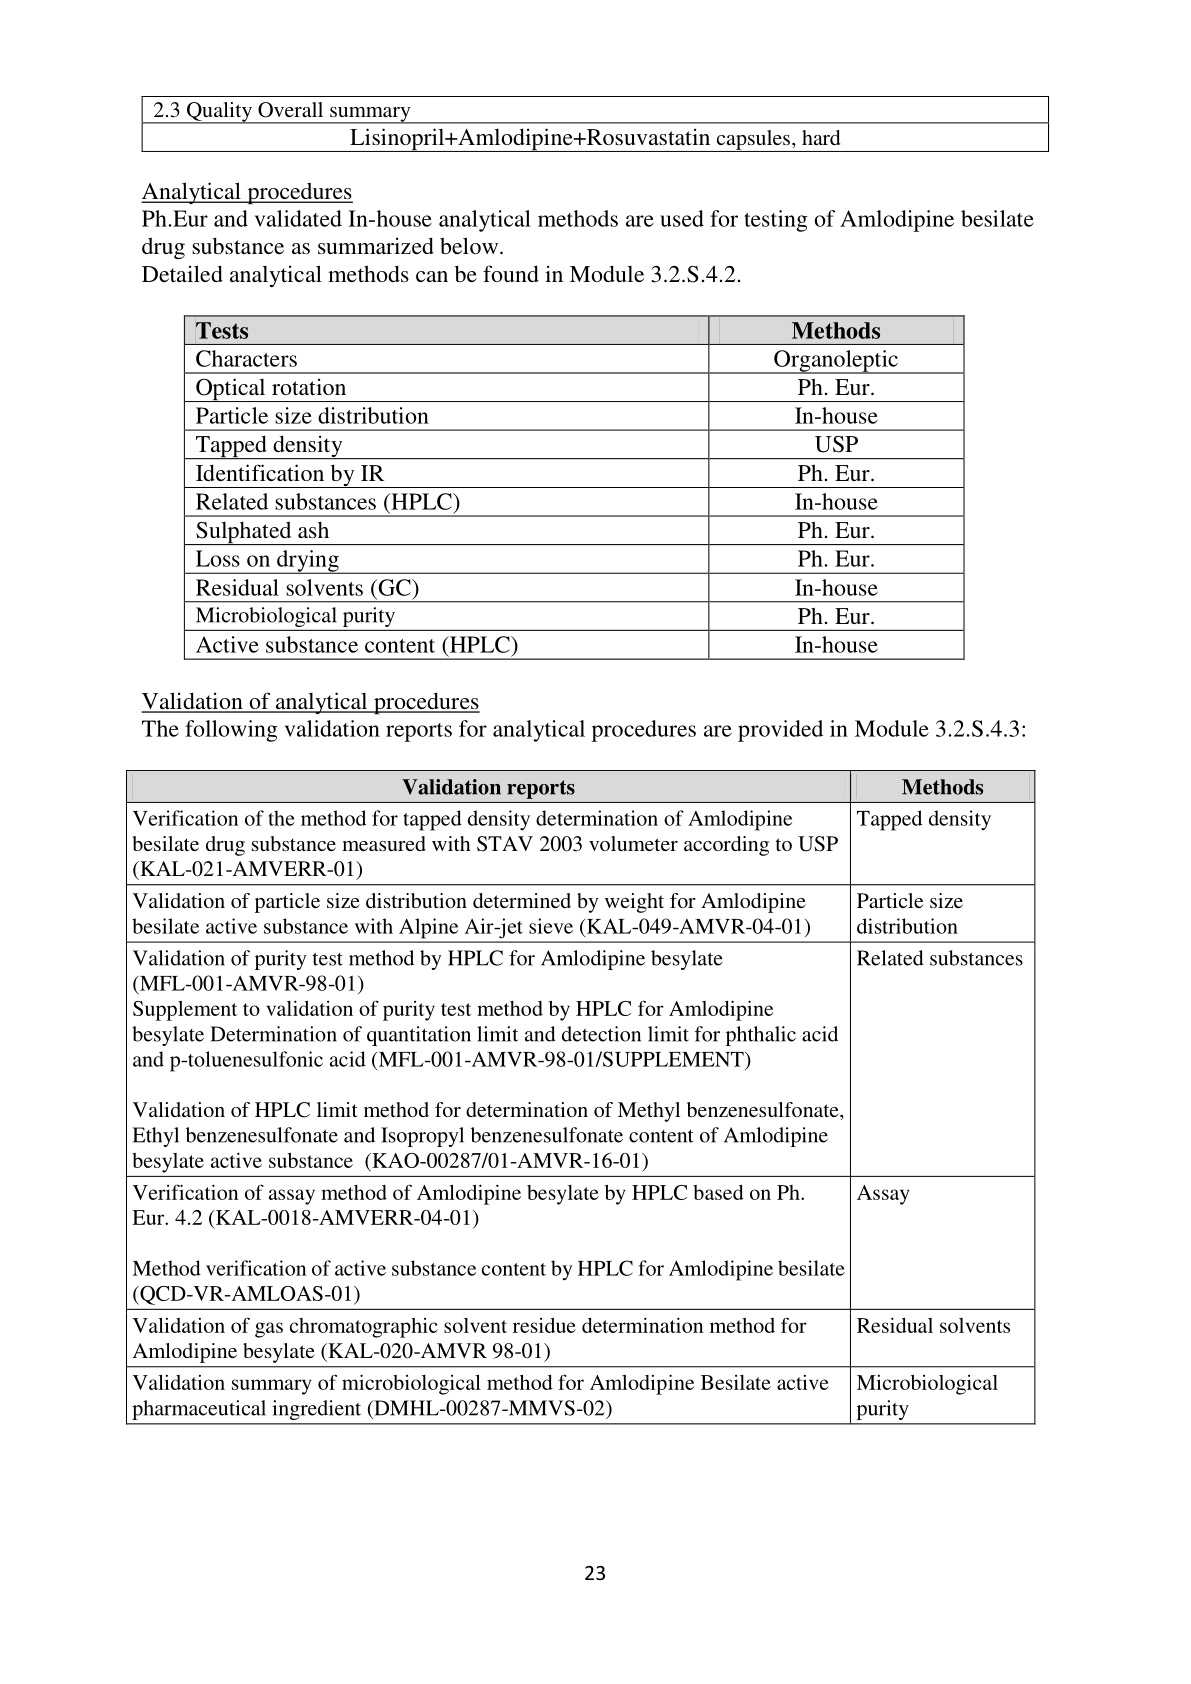full_lined: (182, 313, 965, 661), (140, 94, 1051, 152)
merged_cells: (124, 768, 1036, 1426)
